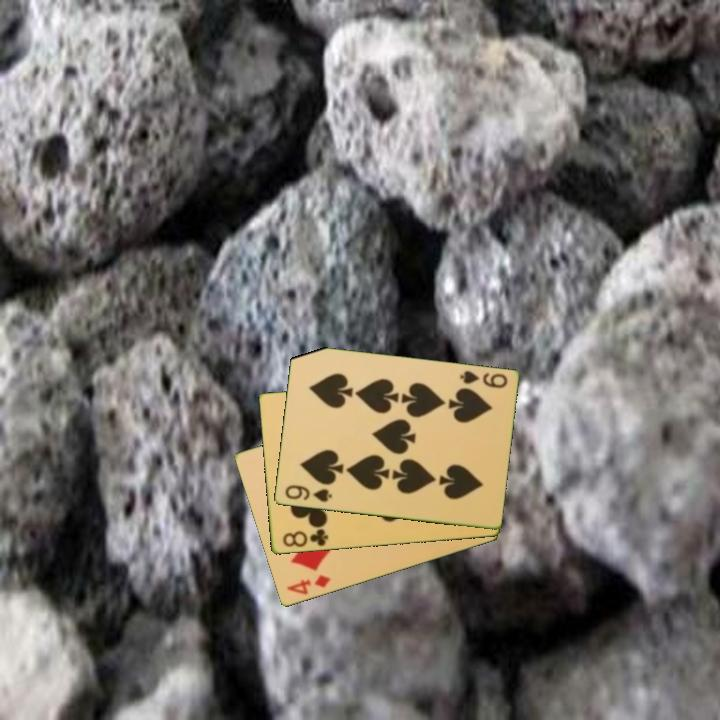4d: (283, 571, 333, 598)
8c: (279, 524, 331, 550)
9s: (456, 367, 510, 391), (281, 482, 334, 505)
